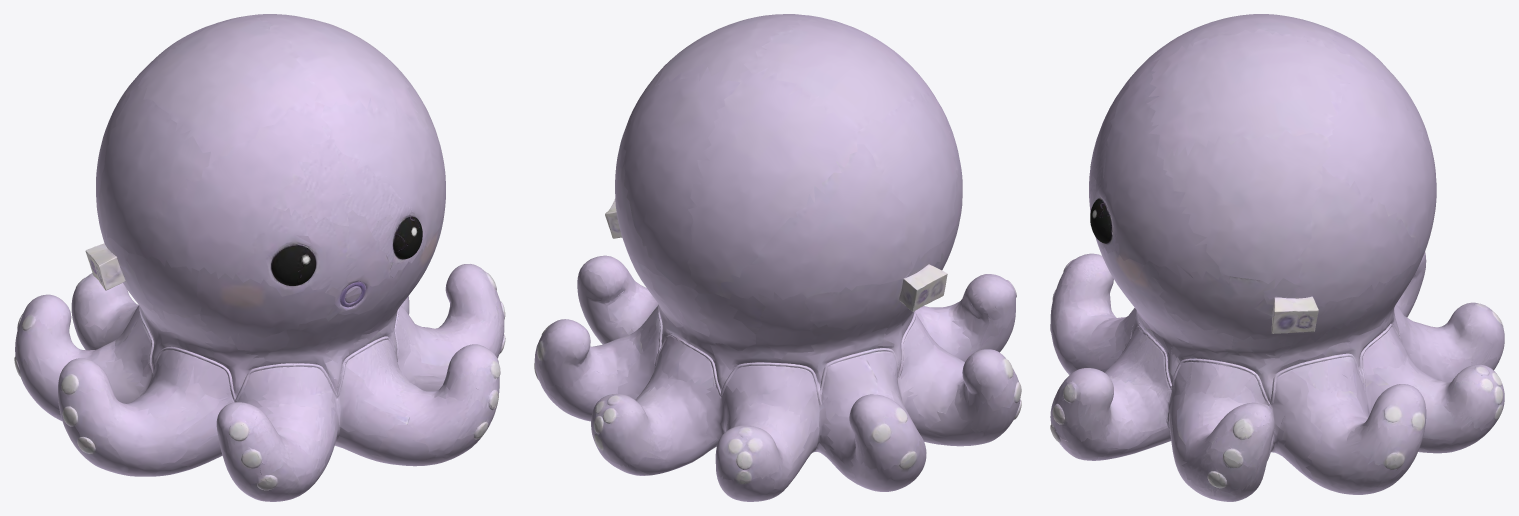
The model's file is octopus.gen.glb.
3 views of the same model, side by side, from view 1: azimuth 30°, elevation 25°; view 2: azimuth 150°, elevation 25°; view 3: azimuth 270°, elevation 25° (orthographic).
Parts seen in each view (by area): view 1: LOD0; view 2: LOD0; view 3: LOD0.
Part boxes in pixels (x1,y1,x2,y2): LOD0: (14, 14, 505, 501); LOD0: (534, 14, 1021, 501); LOD0: (1050, 14, 1504, 501).
Size of what is drawn, in the model's own units: 0.2092 by 0.1764 by 0.1884.
Materials: 1 (1 with a texture image).
